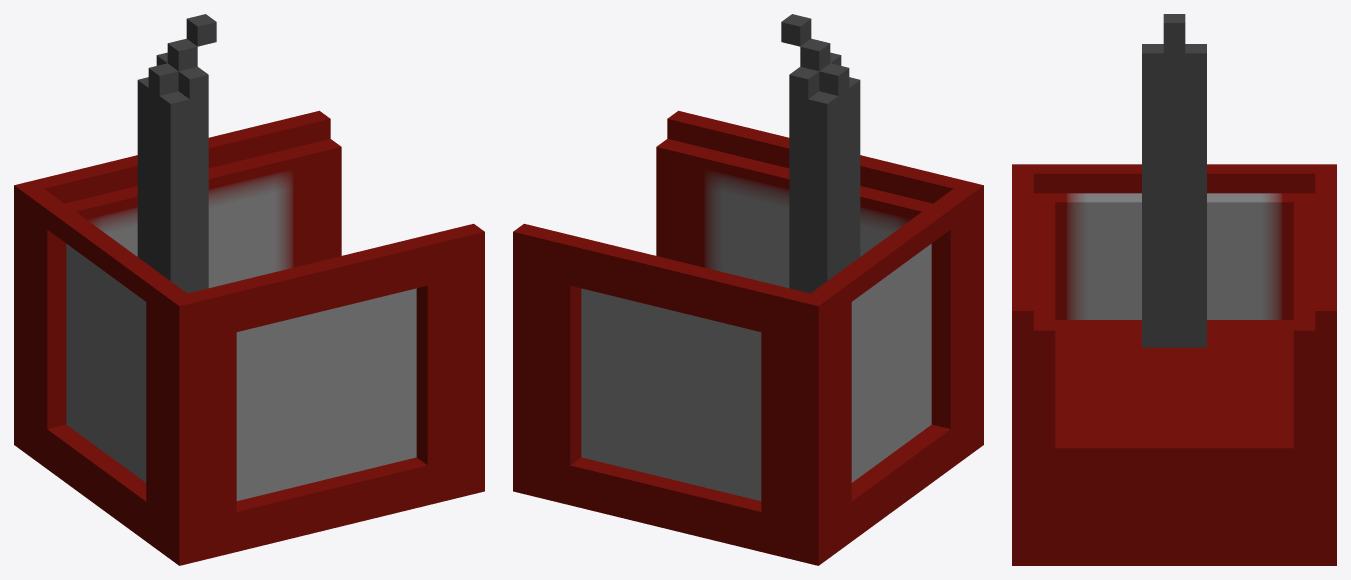
File: Vehicle_36.fbx
3 renders of one model, left to right at view 1: azimuth 30°, elevation 25°; view 2: azimuth 150°, elevation 25°; view 3: azimuth 270°, elevation 25°, orthographic.
Visible parts, largest first — view 1: Vehicle_36; view 2: Vehicle_36; view 3: Vehicle_36.
Part boxes in pixels (<box>): Vehicle_36: <box>14,14,484,565</box>; Vehicle_36: <box>513,14,983,565</box>; Vehicle_36: <box>1012,14,1336,565</box>.
Bounding box in the file's own units: 16 × 23 × 15.
1 material, 1 textured.
